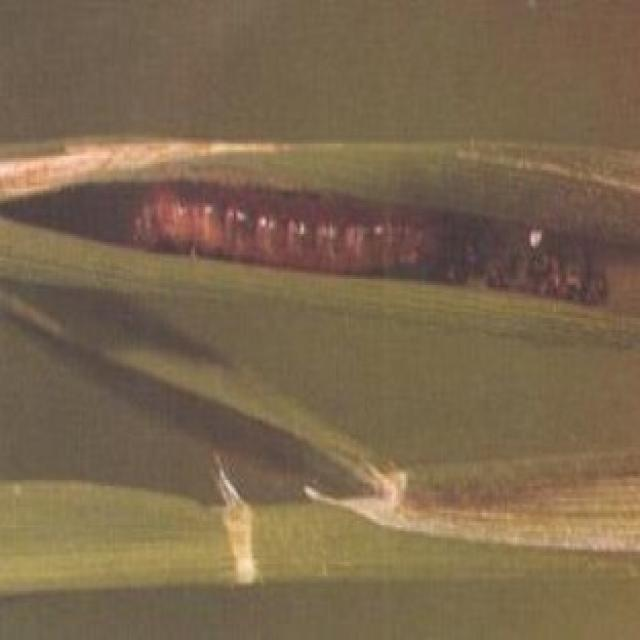rice leaf roller: (131, 183, 603, 299)
